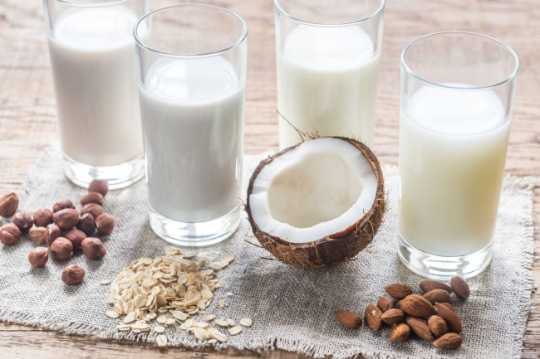glass of milk: (397, 31, 507, 273), (129, 18, 241, 242)
